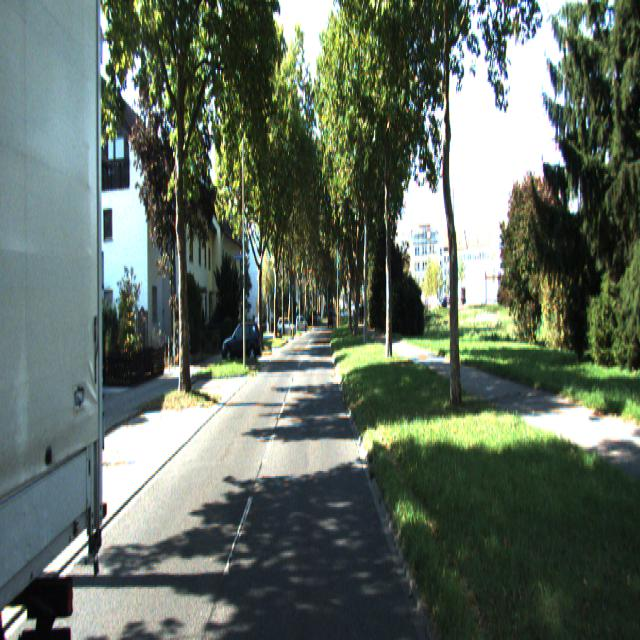Car: (220, 319, 260, 365), (130, 0, 132, 639)
